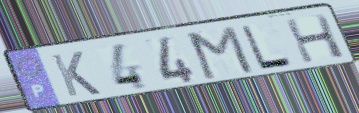4: (108, 42, 151, 92), (157, 34, 197, 84)
H: (282, 12, 348, 65)
K: (48, 50, 104, 99)
L: (238, 23, 297, 71)
M: (186, 24, 258, 82)
